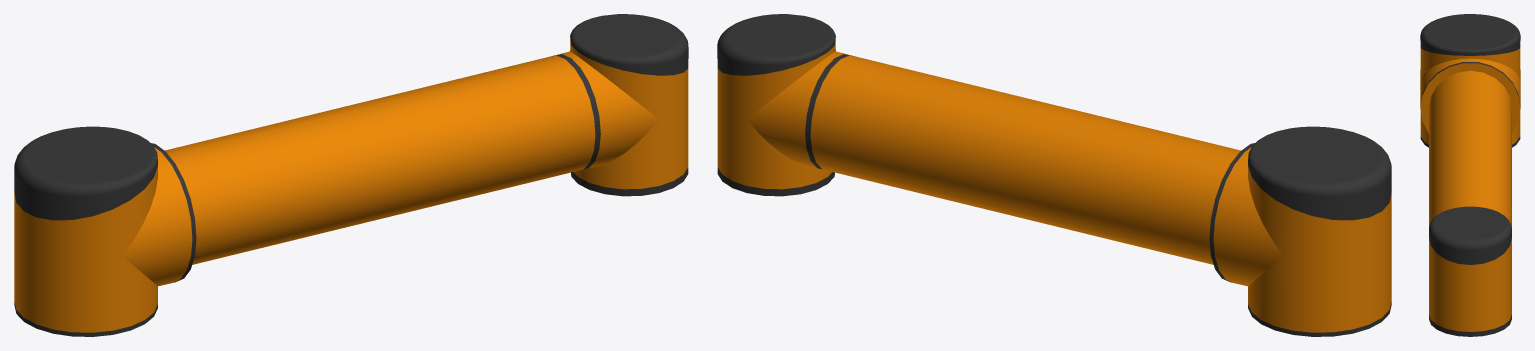
3 renders of one model, left to right at view 1: azimuth 30°, elevation 25°; view 2: azimuth 150°, elevation 25°; view 3: azimuth 270°, elevation 25°, orthographic. The views are drawn at different scales.
Visible parts, largest first — view 1: FBXASC194FBXASC183FBXASC195FBXASC150FBXASC194FBXASC184FBXASC; view 2: FBXASC194FBXASC183FBXASC195FBXASC150FBXASC194FBXASC184FBXASC; view 3: FBXASC194FBXASC183FBXASC195FBXASC150FBXASC194FBXASC184FBXASC.
Part boxes in pixels (x1,y1,x2,y2): FBXASC194FBXASC183FBXASC195FBXASC150FBXASC194FBXASC184FBXASC: (14,14,688,336); FBXASC194FBXASC183FBXASC195FBXASC150FBXASC194FBXASC184FBXASC: (717,14,1391,336); FBXASC194FBXASC183FBXASC195FBXASC150FBXASC194FBXASC184FBXASC: (1420,14,1520,336).
Bounding box in the file's own units: 0.971 × 0.184 × 0.2158.
